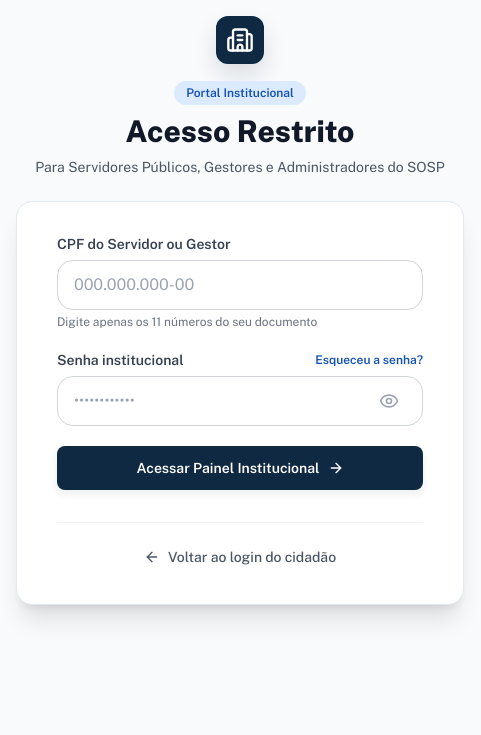
Test: Login Institucional (ADR-003, RN-35, RN-36) › deve rejeitar tentativa de login de cidadão comum com mensagem explicativa
In the field labelled "CPF do Servidor ou Gestor": x=240, y=285 [57, 260, 423, 310], type "111.444.777-35"
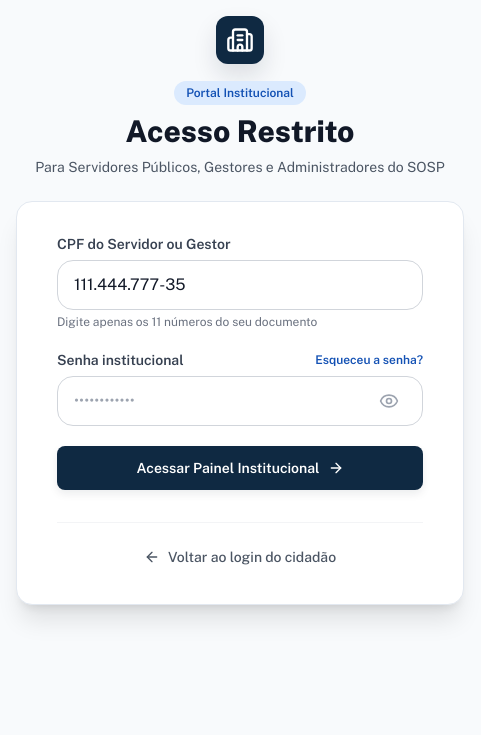
In the password field labelled "Senha institucional": x=240, y=401 [57, 376, 423, 426], type "SenhaForte@123"
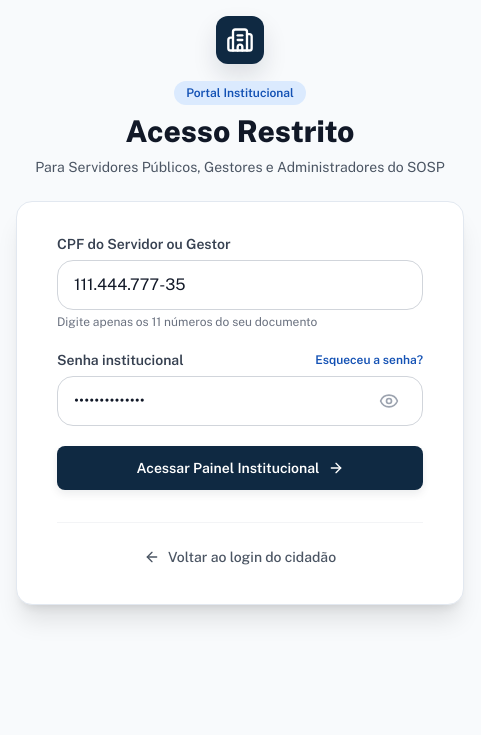
Click the button "Acessar Painel Institucional": x=240, y=468 [57, 446, 423, 490]
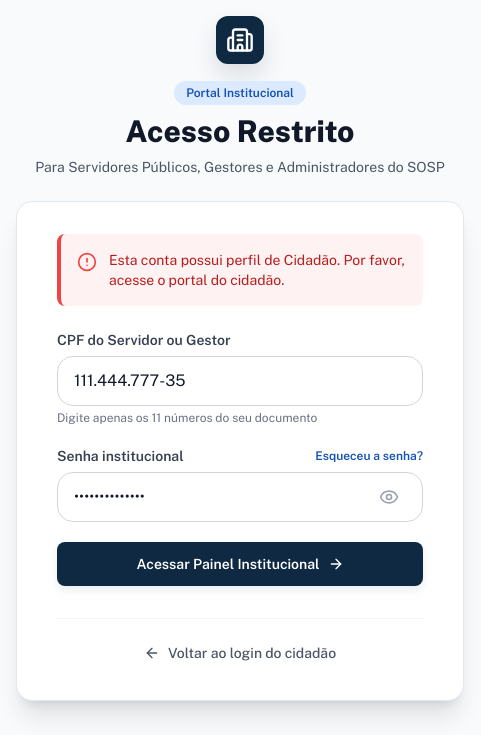
Check: the text "Esta conta possui perfil de Cidadão. Por favor, acesse o portal do cidadão." is shown, box [109, 250, 407, 290]
